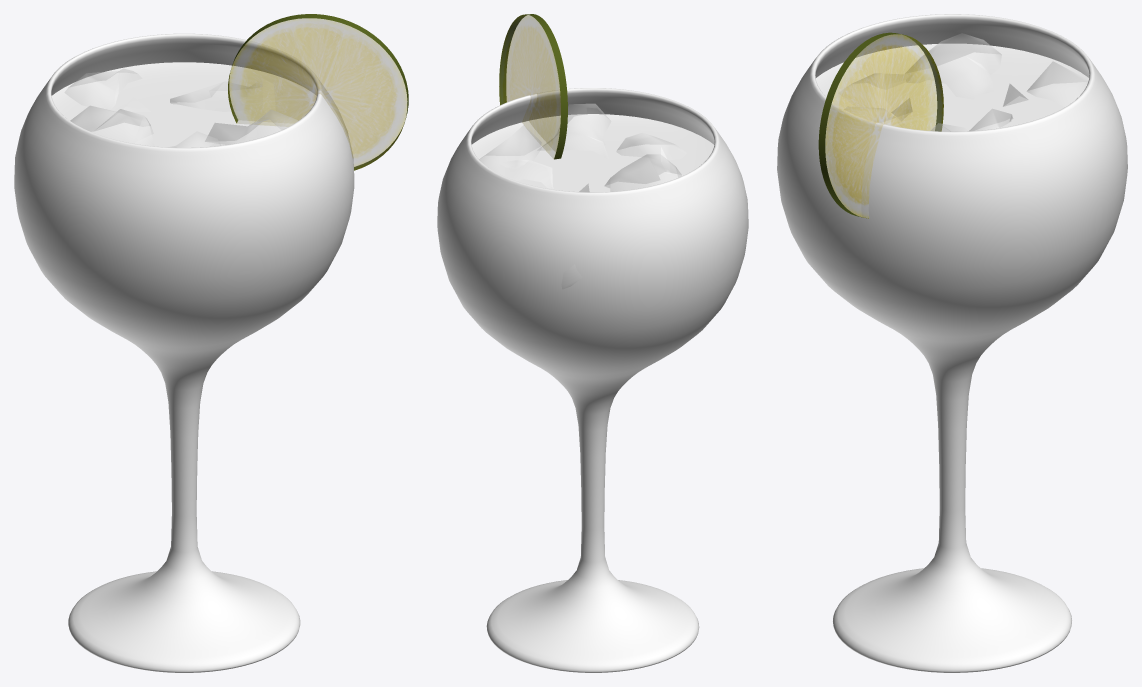
Rendered from Gin Glass light.glb.
The picture shows the model from 3 angles, left to right: view 1: azimuth 30°, elevation 25°; view 2: azimuth 150°, elevation 25°; view 3: azimuth 270°, elevation 25°; orthographic projection. The views are drawn at different scales.
Parts seen in each view (by area): view 1: Gintonica Glass, Lemon.002, Gin Drink.001, Ice; view 2: Gintonica Glass, Gin Drink.001, Ice, Lemon.002; view 3: Gintonica Glass, Gin Drink.001, Lemon.002, Ice.
Boxes of the visible parts, x1,y1,x2,y2 form: Gintonica Glass: (14, 33, 354, 672); Lemon.002: (228, 14, 408, 170); Gin Drink.001: (51, 62, 316, 147); Ice: (65, 69, 298, 147); Gintonica Glass: (437, 88, 748, 672); Gin Drink.001: (471, 114, 714, 192); Ice: (479, 104, 686, 288); Lemon.002: (499, 14, 567, 159); Gintonica Glass: (777, 14, 1127, 672); Gin Drink.001: (816, 43, 1088, 131); Lemon.002: (818, 32, 943, 218); Ice: (844, 33, 1088, 131).
Size of the model in its own units: 0.1158 by 0.2185 by 0.1099.
Materials: 5 (1 with a texture image).
